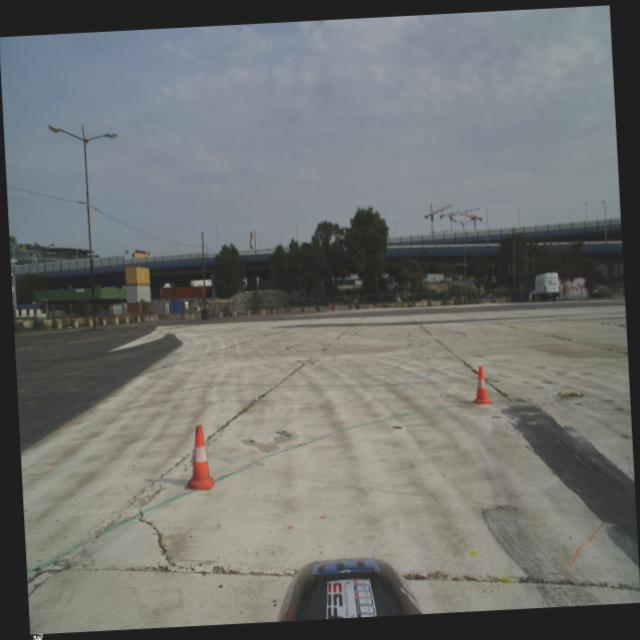orange_cone: (181, 424, 215, 492), (470, 365, 492, 405)
